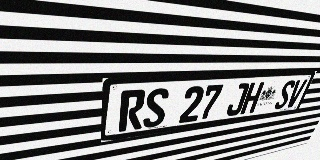2: (179, 86, 206, 123)
7: (197, 84, 224, 121)
H: (240, 82, 265, 114)
J: (225, 83, 250, 117)
R: (118, 89, 146, 132)
S: (142, 88, 170, 128), (273, 80, 297, 110)
V: (285, 79, 308, 108)
